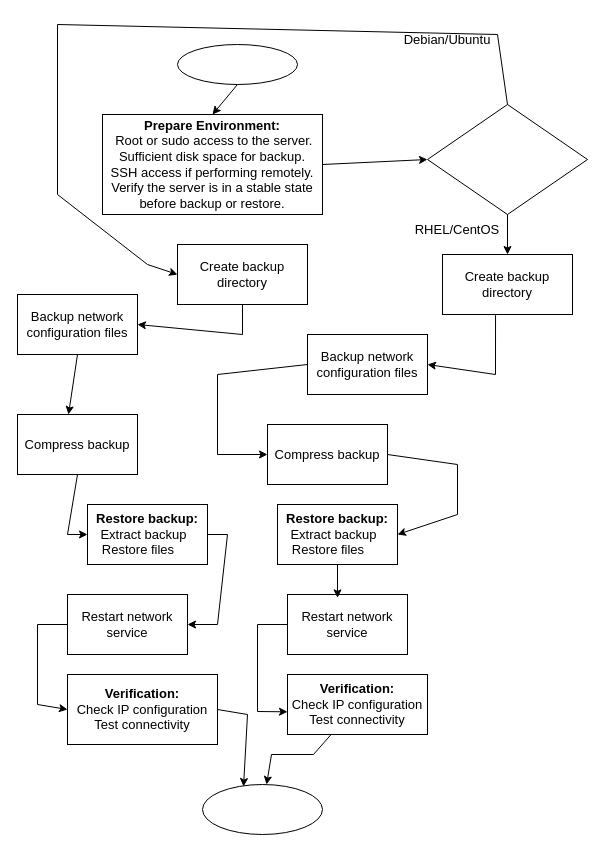
This 605x852 diagram has some shape labels left out. Here are the shapes that lost their labels. From the top down, the centre of each, then its label:
At (x=237, y=64): "START".
At (x=507, y=159): "Which server we are using here?".
At (x=262, y=809): "END".
